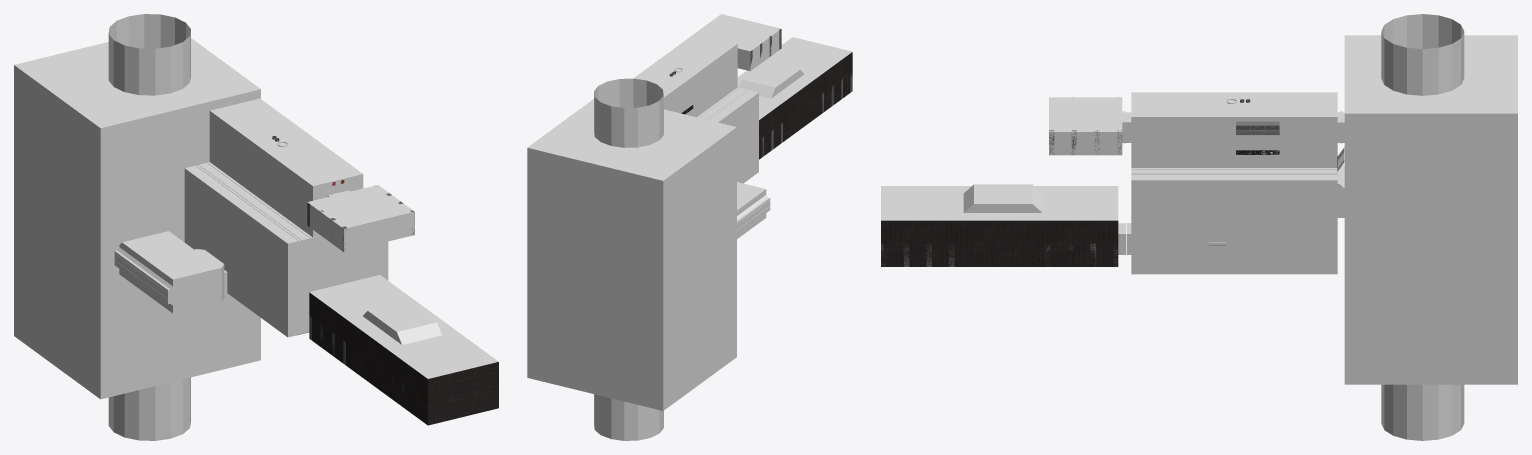
The picture shows the model from 3 angles, left to right: view 1: azimuth 30°, elevation 25°; view 2: azimuth 150°, elevation 25°; view 3: azimuth 270°, elevation 25°; orthographic projection. The views are drawn at different scales.
Visible parts, largest first — view 1: room 3, room 1.001, room 5, room 2, Cylinder, room 4, room 1; view 2: room 3, room 1.001, Cylinder, room 2, room 5, room 1, room 4, wall part.001; view 3: room 3, room 5, room 1.001, room 2, Cylinder, room 1, glass window, bridge, Cube.001.
Part boxes in pixels (x1,y1,x2,y2): room 3: (14, 38, 260, 399); room 1.001: (309, 275, 498, 425); room 5: (184, 162, 388, 337); room 2: (209, 98, 363, 237); Cylinder: (108, 14, 190, 440); room 4: (114, 231, 224, 313); room 1: (307, 185, 414, 251); room 3: (527, 99, 736, 410); room 1.001: (737, 37, 852, 159); Cylinder: (594, 78, 663, 440); room 2: (633, 33, 737, 117); room 5: (697, 87, 758, 183); room 1: (695, 14, 780, 71); room 4: (737, 182, 770, 238); wall part.001: (762, 73, 852, 156); room 3: (1344, 35, 1517, 384); room 5: (1127, 147, 1344, 274); room 1.001: (881, 184, 1124, 266); room 2: (1131, 92, 1344, 167); Cylinder: (1381, 14, 1464, 440); room 1: (1049, 97, 1131, 155); glass window: (1236, 121, 1279, 135); bridge: (1236, 125, 1279, 154); Cube.001: (1131, 169, 1337, 174).
Bounding box in the file's own units: 2394 × 4938 × 7271.
